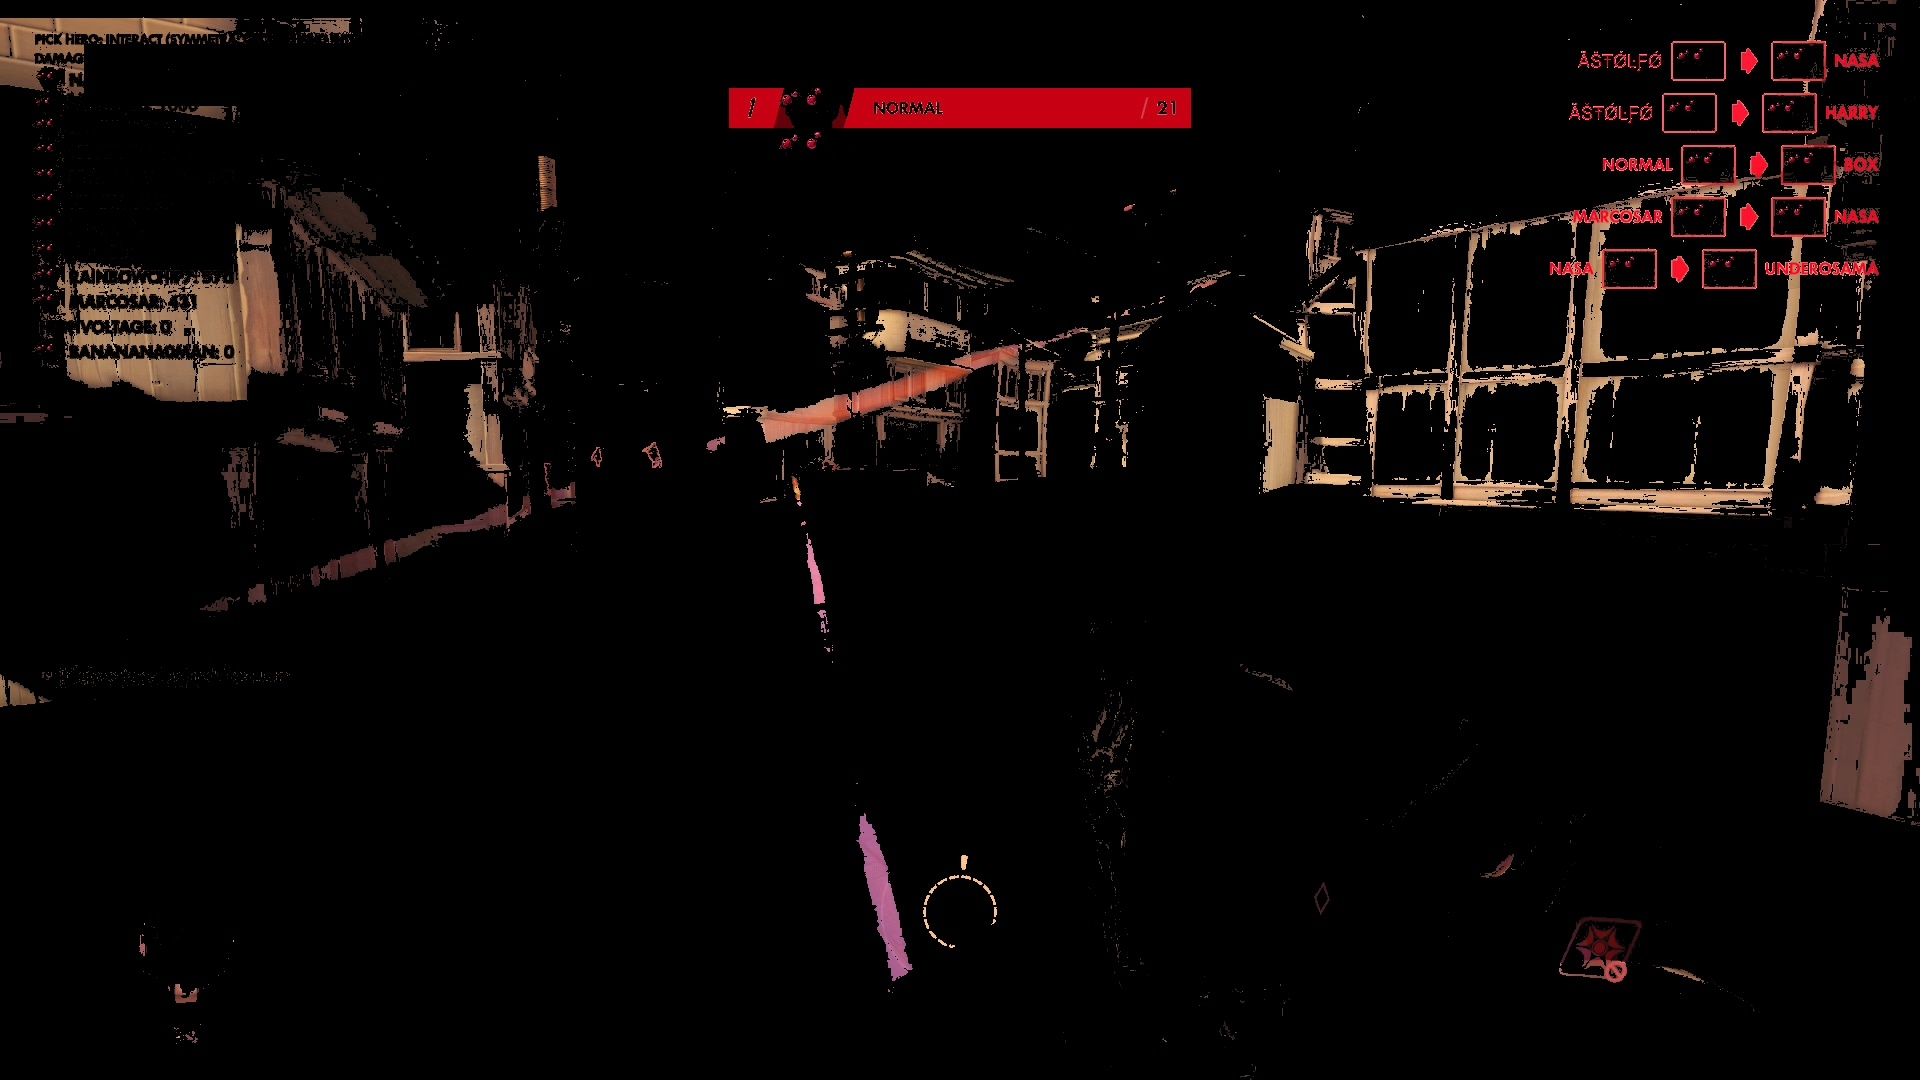widowmaker: (640, 438, 665, 475), (541, 460, 558, 495), (588, 444, 607, 468)
